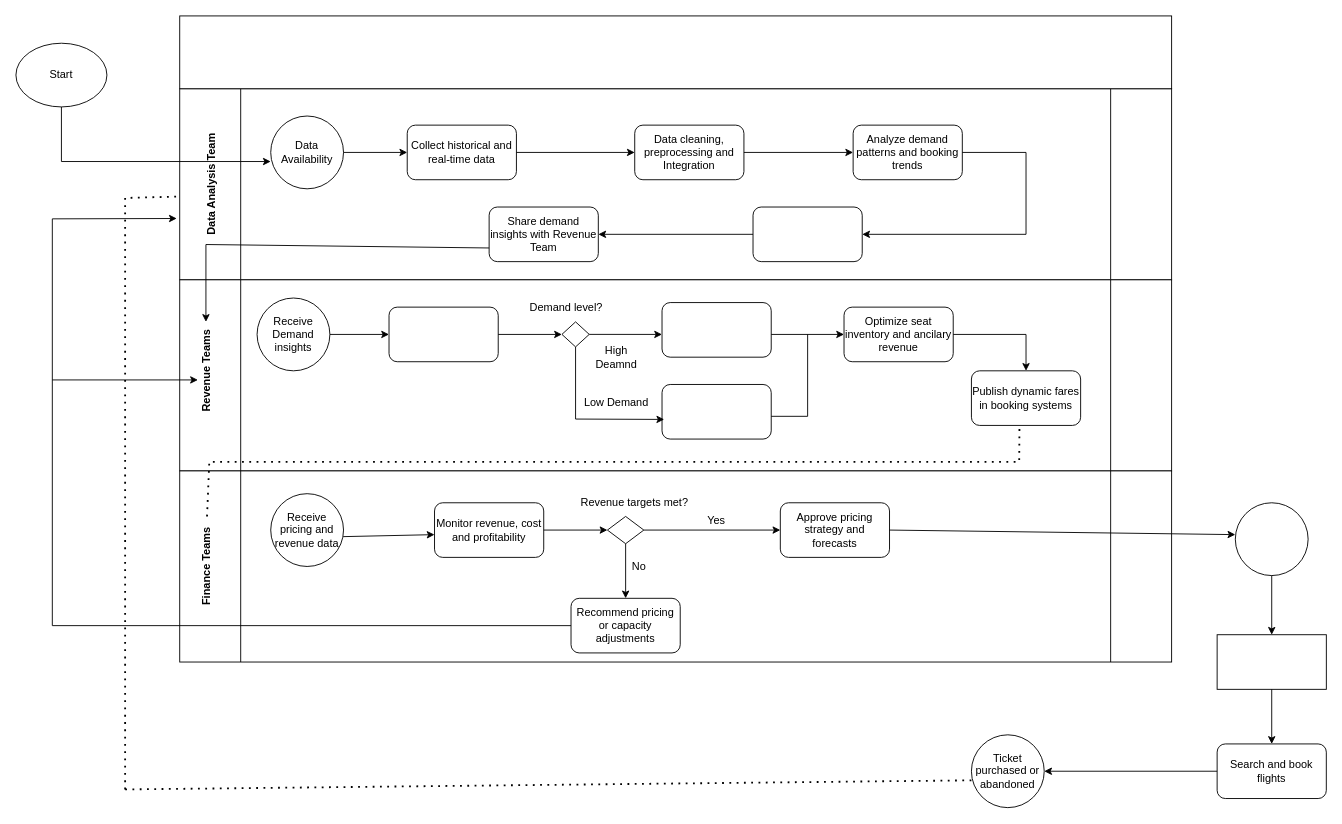
This 1342x824 diagram has some shape labels left out. The shapes that lost their labels are listed below. From the top down, each one's centre as x and y in pixels, then its label:
point 675,52: Business Process Framework - Airline Fare Prediction
point 807,234: People demand forecasts and pricing recommendations
point 443,334: Evaluate demand, load factor and yield
point 716,329: Increase fares and limit discounted frequency
point 716,411: Reduce fares and open promotional inventory
point 1271,539: Financial performance validated
point 1271,661: Customer view dynamic ticket prices
